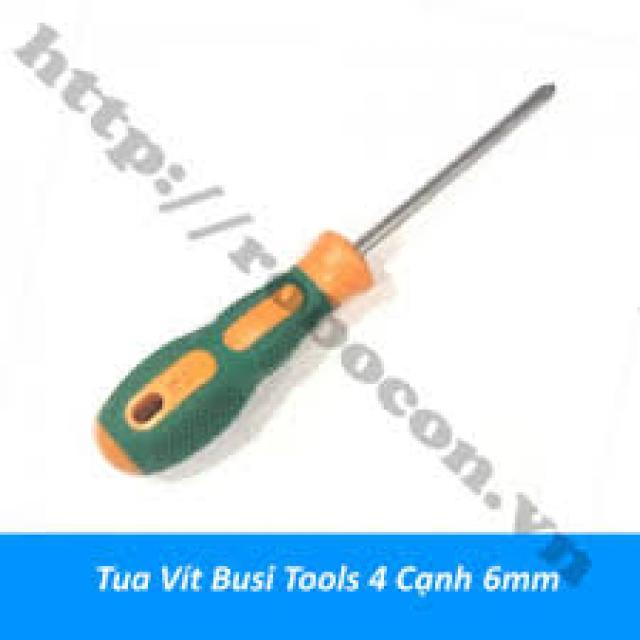screwdriver: (92, 71, 562, 475)
